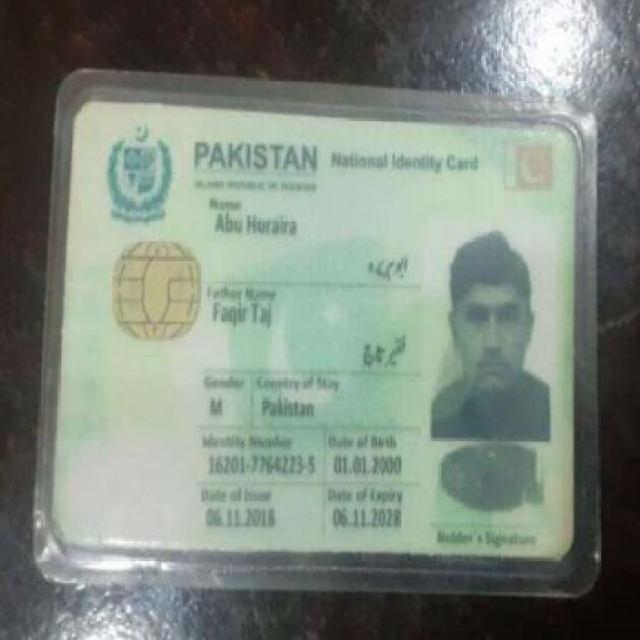Front: (48, 84, 586, 596)
